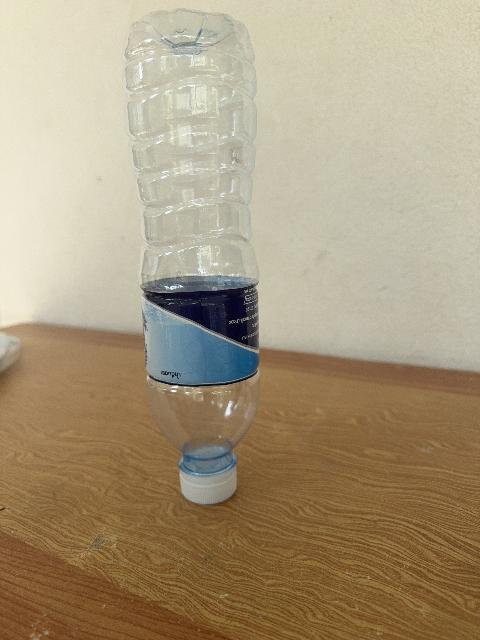bottle: (125, 10, 259, 503)
